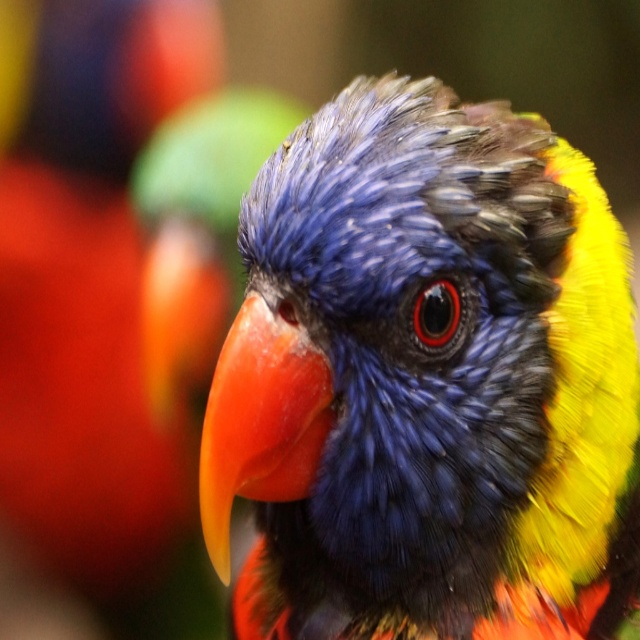Parrot: (197, 69, 640, 639)
